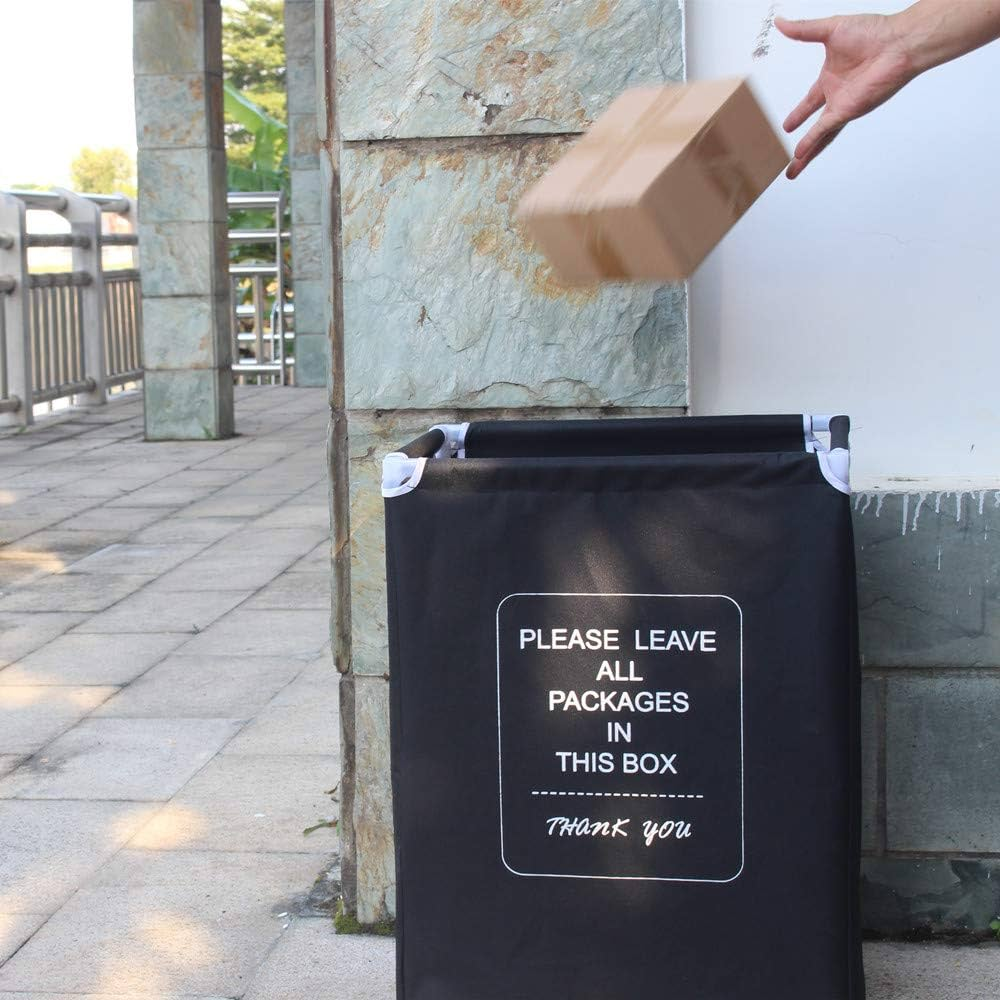DeliveryBox: (504, 48, 791, 302)
